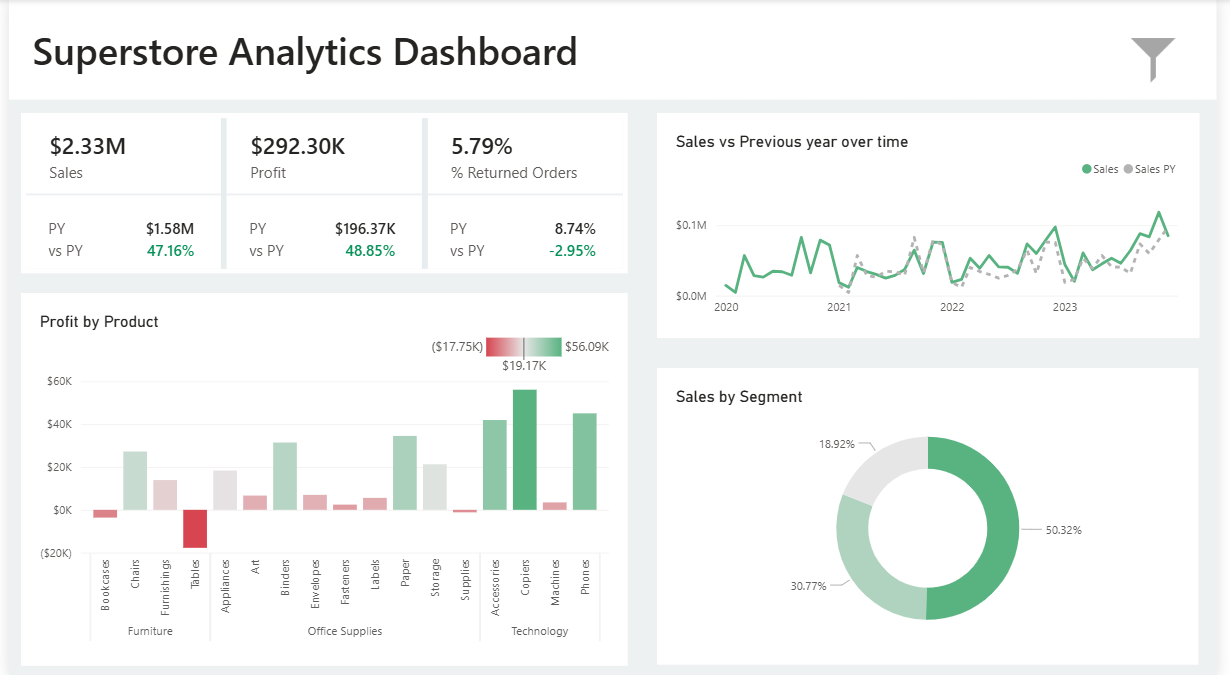

This screenshot's page, from the dashboard's own definition file:
{"tool":"powerbi","page":{"name":"Page 1","canvas":[1280,720],"ordinal":0},"visuals":[{"type":"image","box":[1165.9,31.1,95,66.7],"z":0,"group":"g1"},{"type":"cardVisual","fields":{"Data":["Key Measures.Sales","Key Measures.Profit","Key Measures.% Returned Orders"]},"box":[13.3,121.7,643.3,170],"z":0},{"type":"shape","box":[0,0,1280.4,106.6],"z":1000},{"type":"lineChart","title":"Sales vs Previous year over time","fields":{"Y":["Key Measures.Sales","Key Measures.Sales PY"],"Category":["Date Table.Start of Month"]},"box":[686.7,121.7,575,238.3],"z":2000},{"type":"columnChart","title":"Profit by Product","fields":{"Category":["Orders.Category","Orders.Sub-Category"],"Y":["Key Measures.Profit"]},"box":[13.3,311.7,643.3,395],"z":3000},{"type":"donutChart","title":"Sales by Segment","fields":{"Category":["Orders.Segment"],"Y":["Key Measures.Sales"]},"box":[687.1,391.3,574.2,314.9],"z":4000},{"type":"group","id":"g1","title":"Slicer Panel","box":[576.1,31.1,703.3,573.9],"z":5000}]}

Visuals, with their boxes in screenshot pixels (x1, y1, x2, y2), scaled from the page's 1280x720 canvas onto the 1230x675 screenshot:
image: box(1120, 29, 1212, 92)
cardVisual - Key Measures.Sales x Key Measures.Profit: box(13, 114, 631, 273)
shape: box(0, 0, 1229, 100)
"Sales vs Previous year over time" lineChart: box(660, 114, 1212, 338)
"Profit by Product" columnChart: box(13, 292, 631, 663)
"Sales by Segment" donutChart: box(660, 367, 1212, 662)
"Slicer Panel" group: box(554, 29, 1229, 567)
